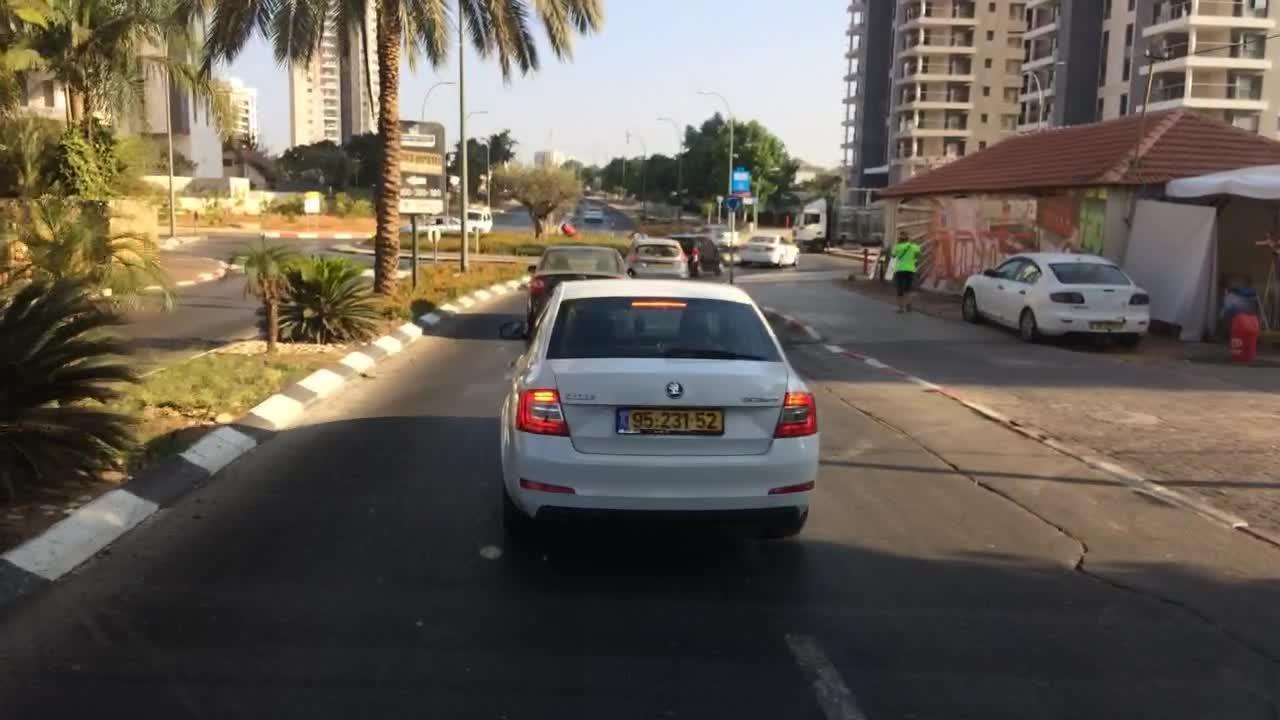skoda: (663, 379, 688, 401)
